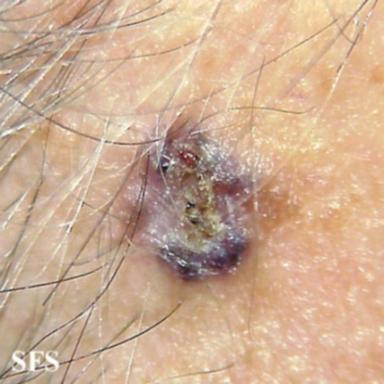basal-cell-carcinoma: (128, 123, 297, 278)
